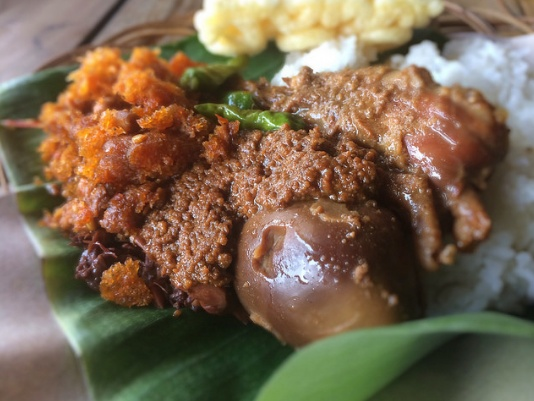gudeg: (69, 46, 531, 337)
